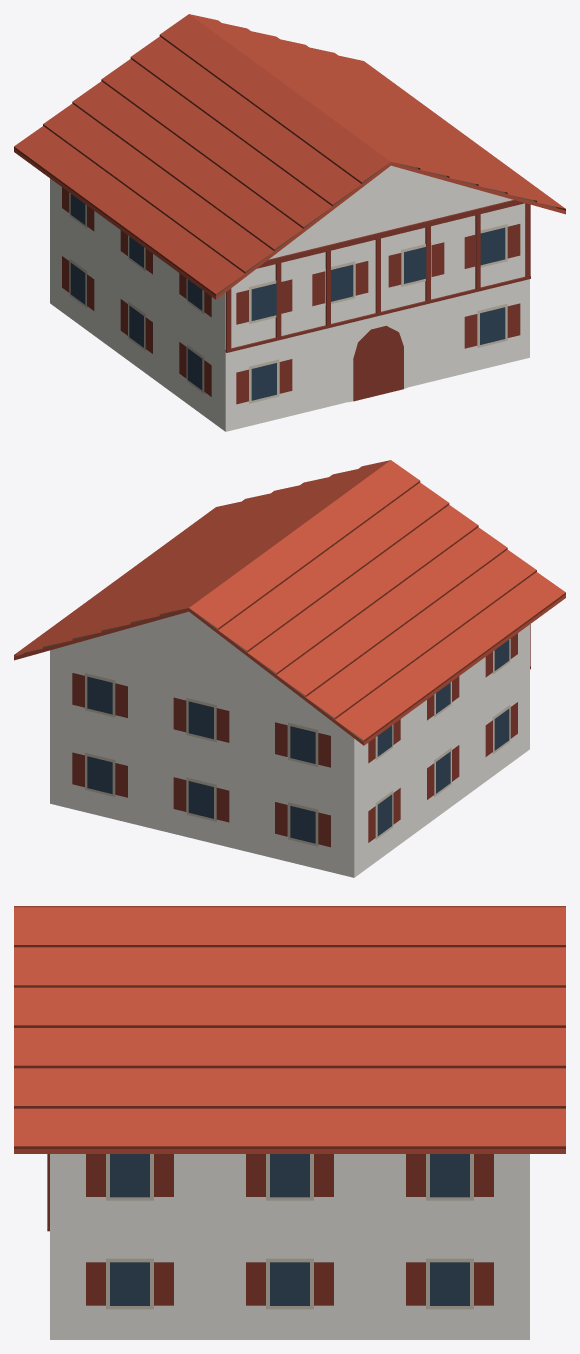
Rendered from maison_basque.glb.
3 renders of one model, top to bottom at view 1: azimuth 30°, elevation 25°; view 2: azimuth 150°, elevation 25°; view 3: azimuth 270°, elevation 25°, orthographic. The views are drawn at different scales.
Parts seen in each view (by area): view 1: maison_basque; view 2: maison_basque; view 3: maison_basque.
Boxes of the visible parts, left/top/right/bottom form: maison_basque: left=14, top=14, right=565, bottom=431; maison_basque: left=14, top=460, right=565, bottom=877; maison_basque: left=14, top=906, right=565, bottom=1339.
Size of the model in its own units: 13.8 by 9.14 by 13.8.
Materials: 1 (1 with a texture image).
